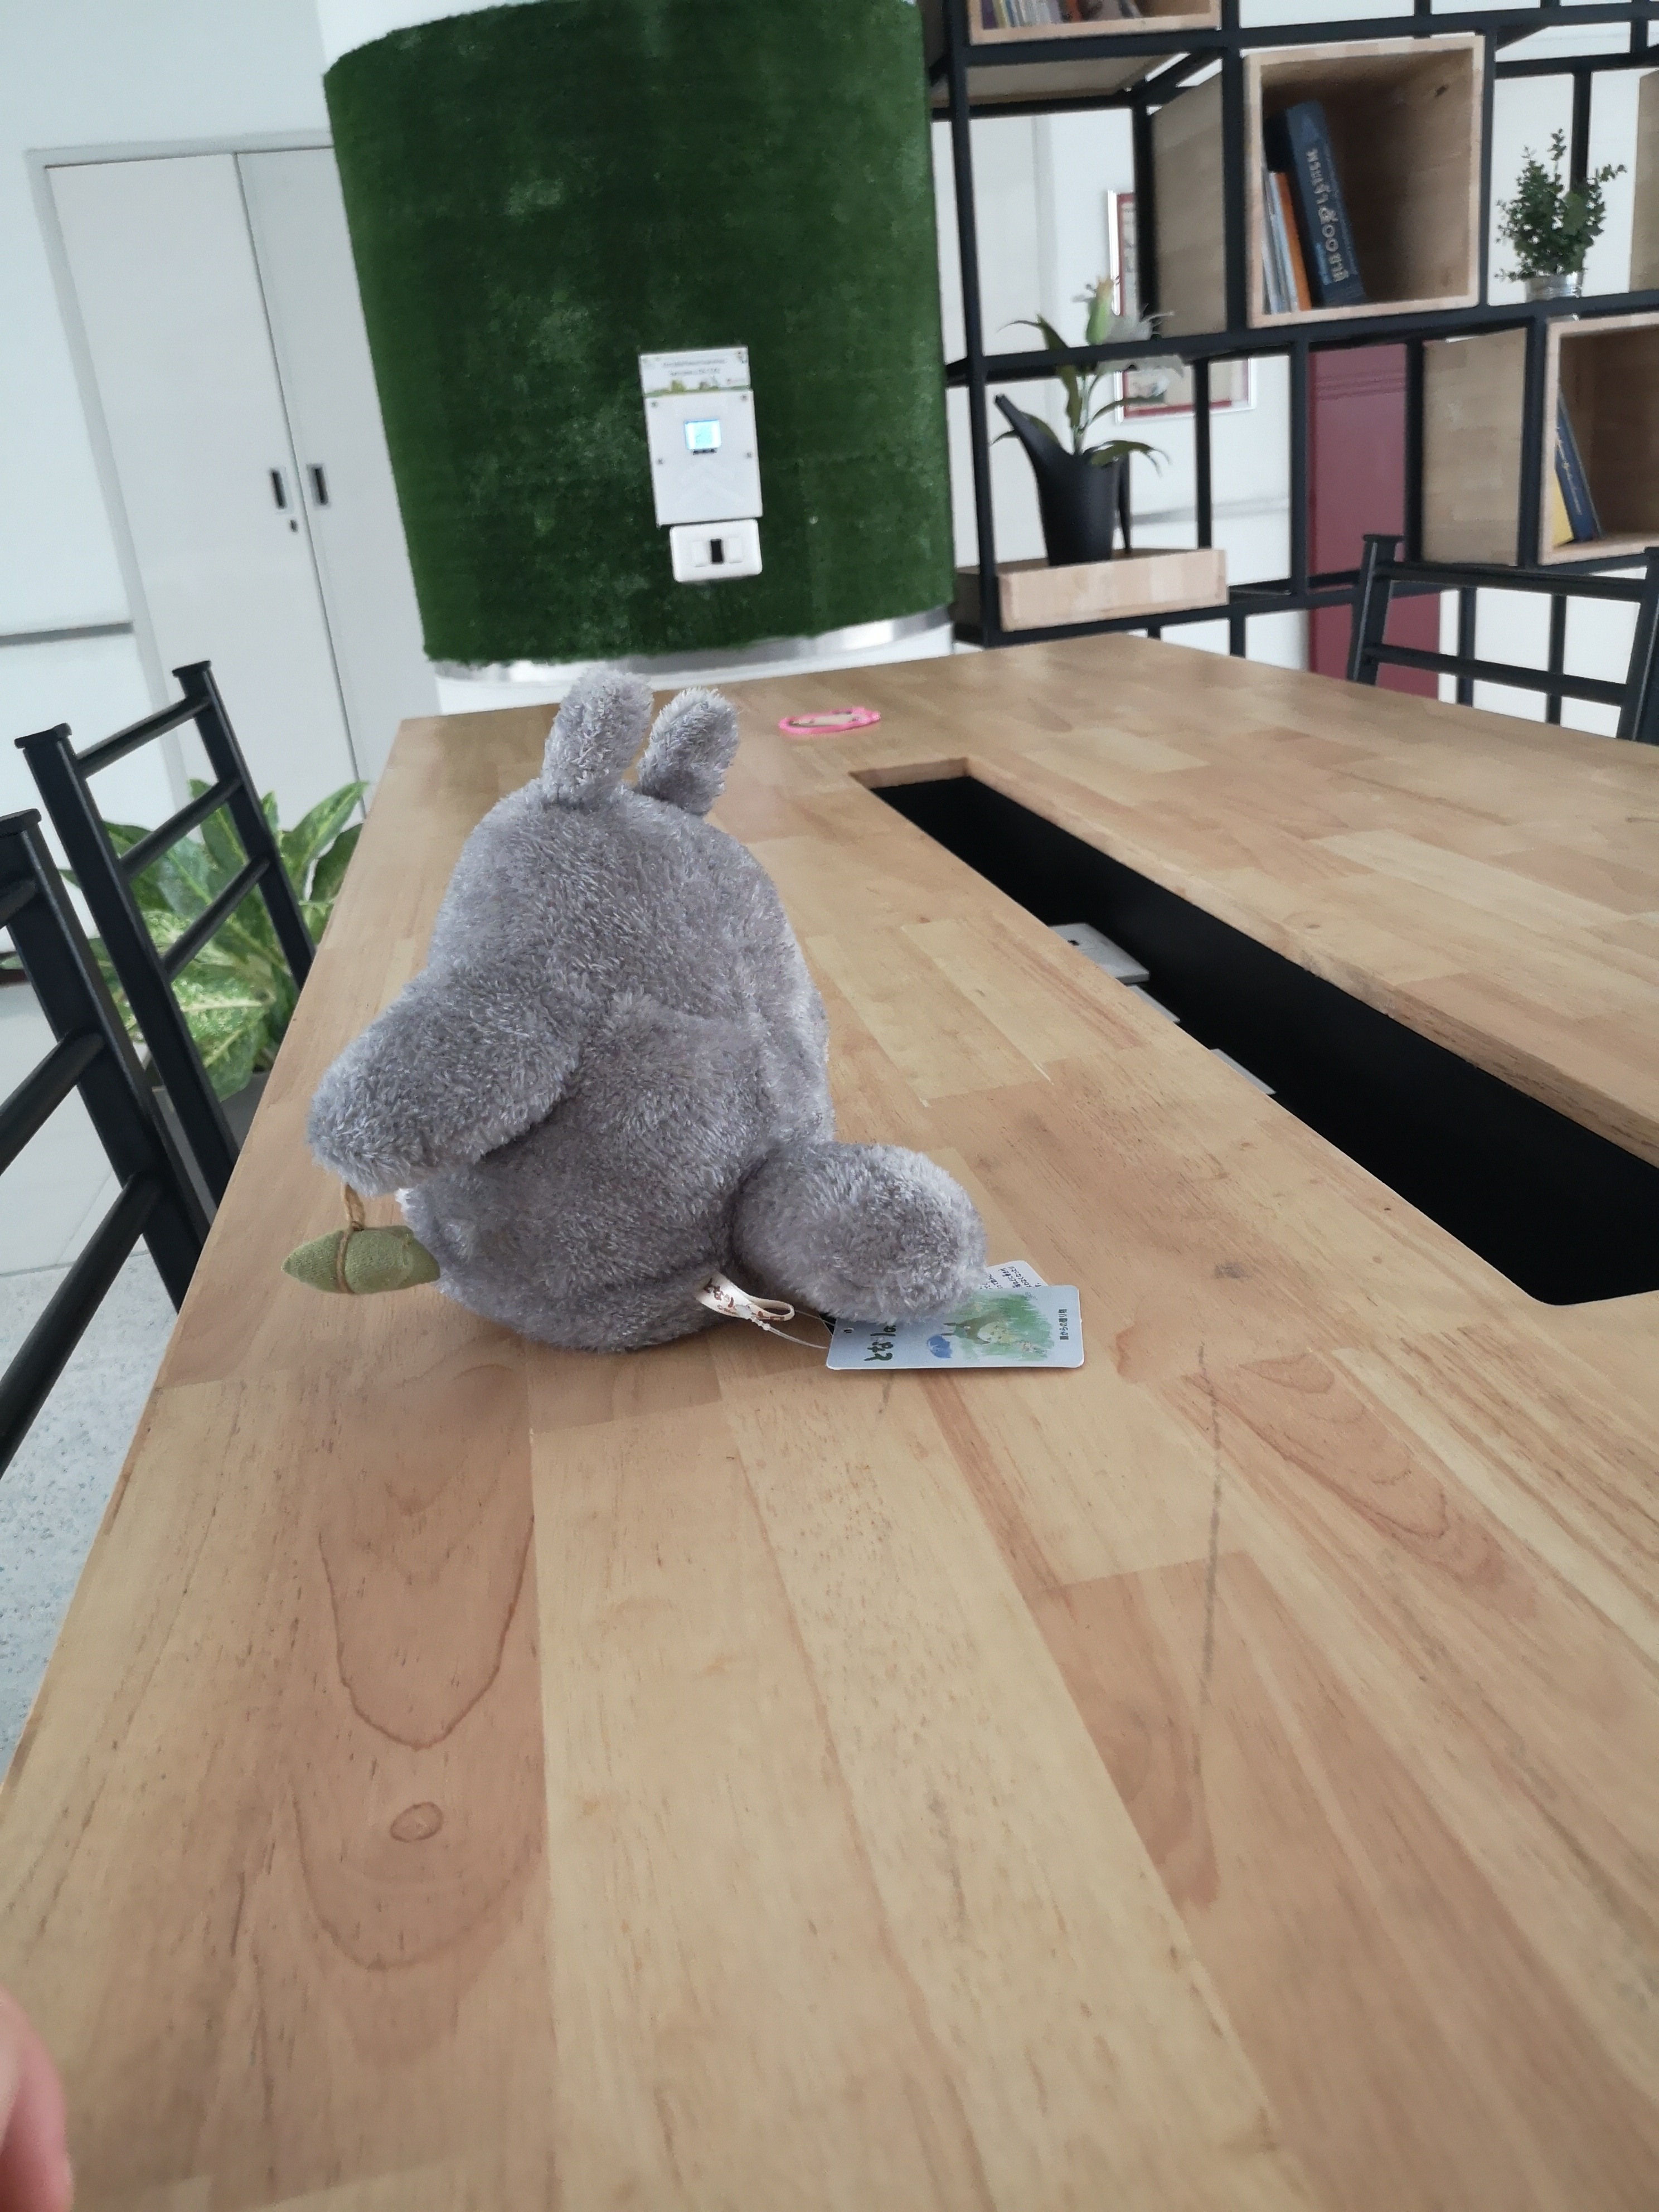totoro: (274, 660, 997, 1353)
